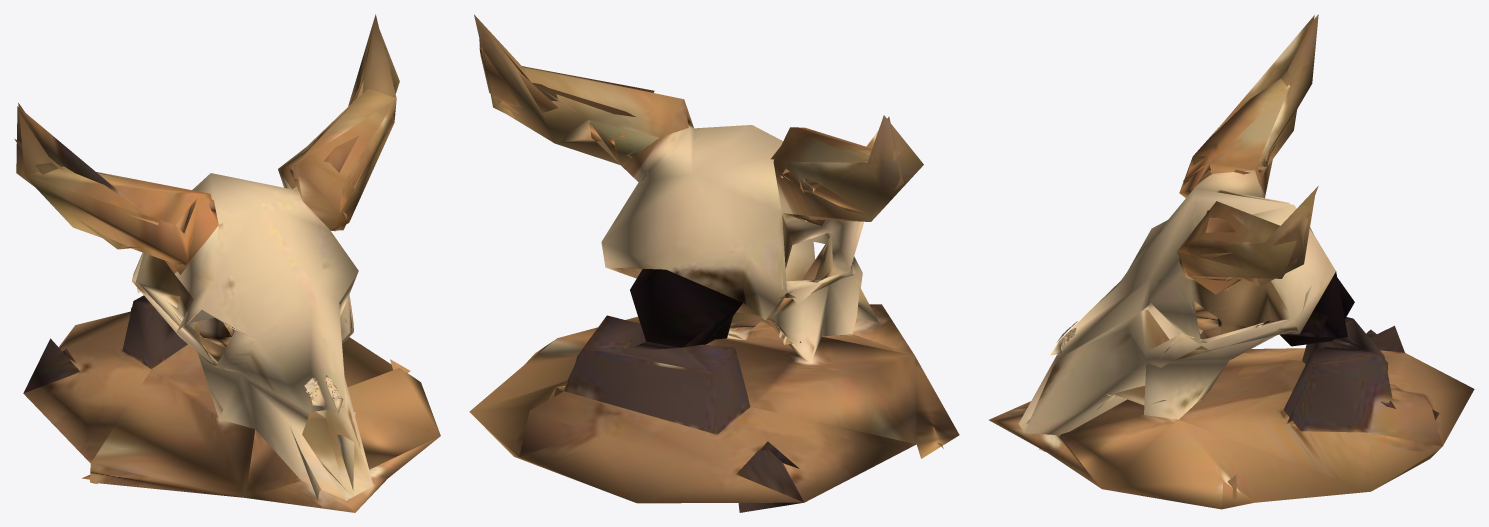
Rendered from lg-desert-skull.glb.
The picture shows the model from 3 angles, left to right: view 1: azimuth 30°, elevation 25°; view 2: azimuth 150°, elevation 25°; view 3: azimuth 270°, elevation 25°; orthographic projection. The views are drawn at different scales.
Parts seen in each view (by area): view 1: geometry_0; view 2: geometry_0; view 3: geometry_0.
Part boxes in pixels (x1,y1,x2,y2): geometry_0: [14, 14, 440, 512]; geometry_0: [469, 14, 959, 512]; geometry_0: [989, 14, 1474, 509].
Bounding box in the file's own units: 0.8827 × 0.7848 × 1.
Materials: 1 (1 with a texture image).
